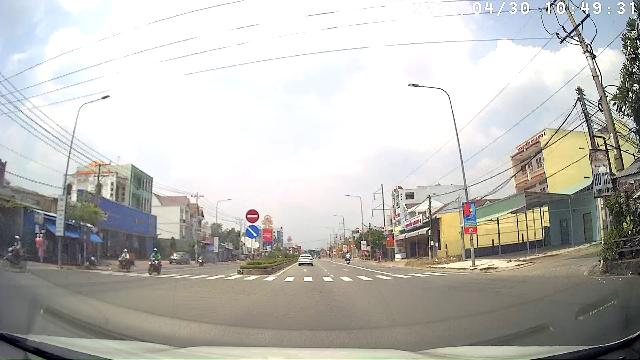102-cam-di-nguoc-chieu: (245, 209, 259, 223)
302a-huong-phai-di-vong-chuong-ngai-vat-1: (246, 225, 258, 239)
